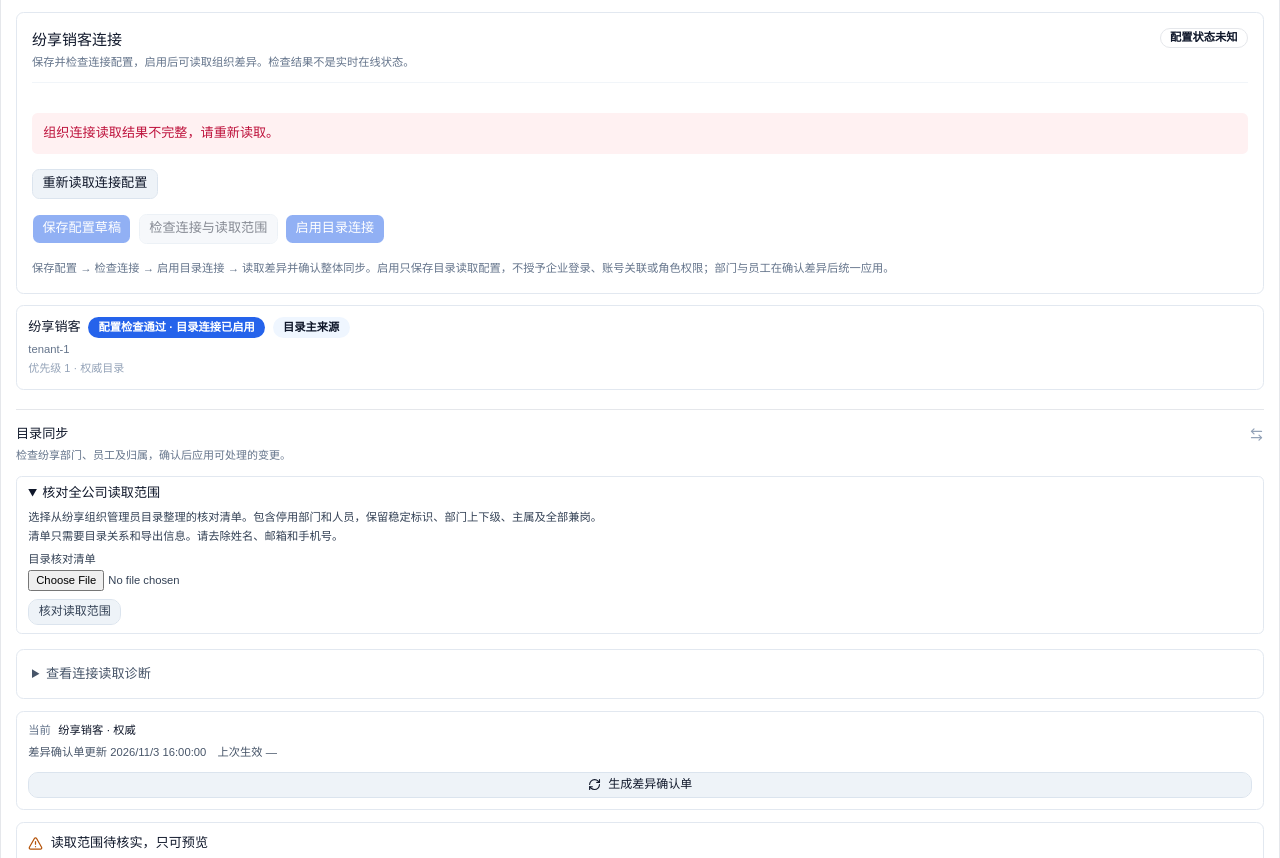
Test case: OrganizationSourcePanel › submits a scope manifest for the current effective source and refreshes the directory preview
Earlier steps of the test are not shown.
(page scrolled)
Click the button "核对读取范围".
click(75, 612)  # box x1=28 y1=599 x2=121 y2=625
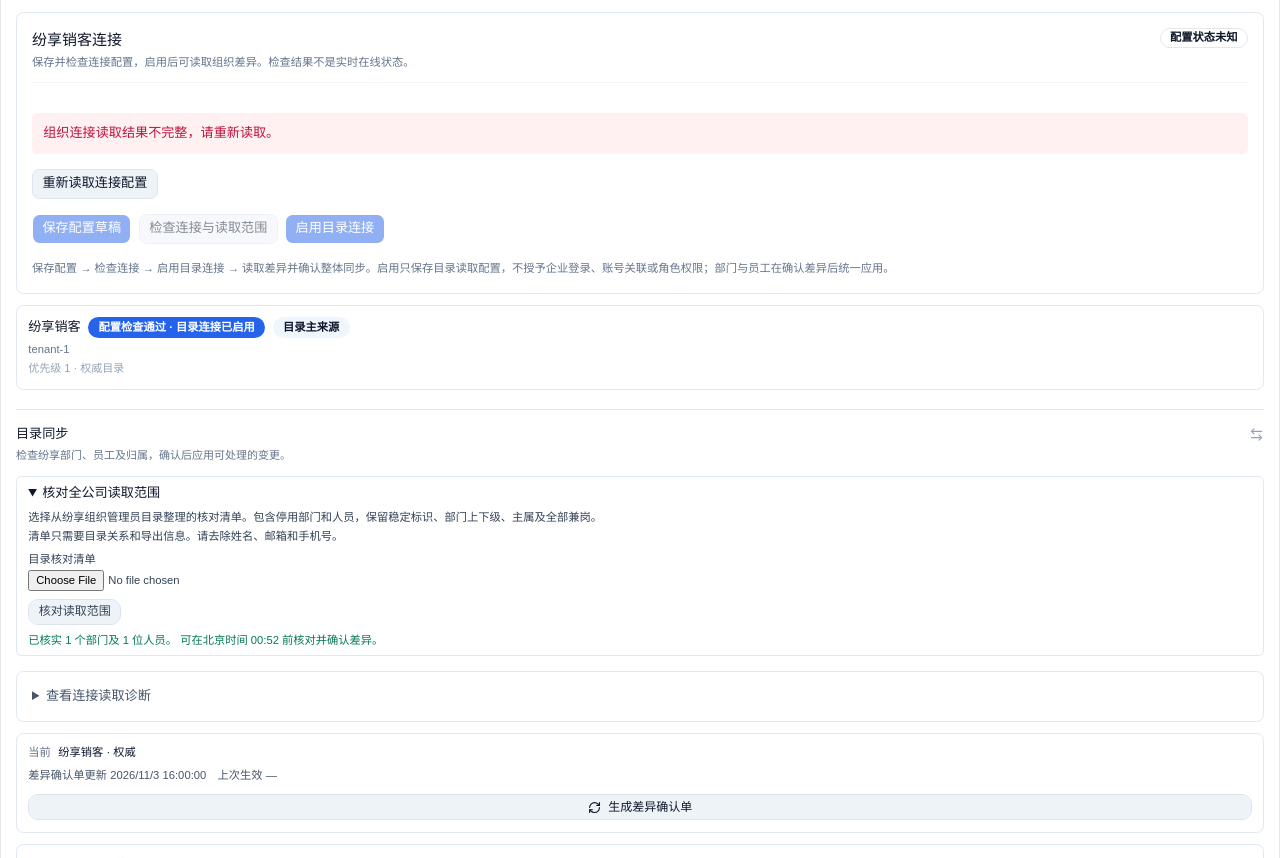
Expected: the text "已核实 1 个部门及 1 位人员。 可在北京时间 00:52 前核对并确认差异。" is shown, x1=28 y1=634 x2=383 y2=646
